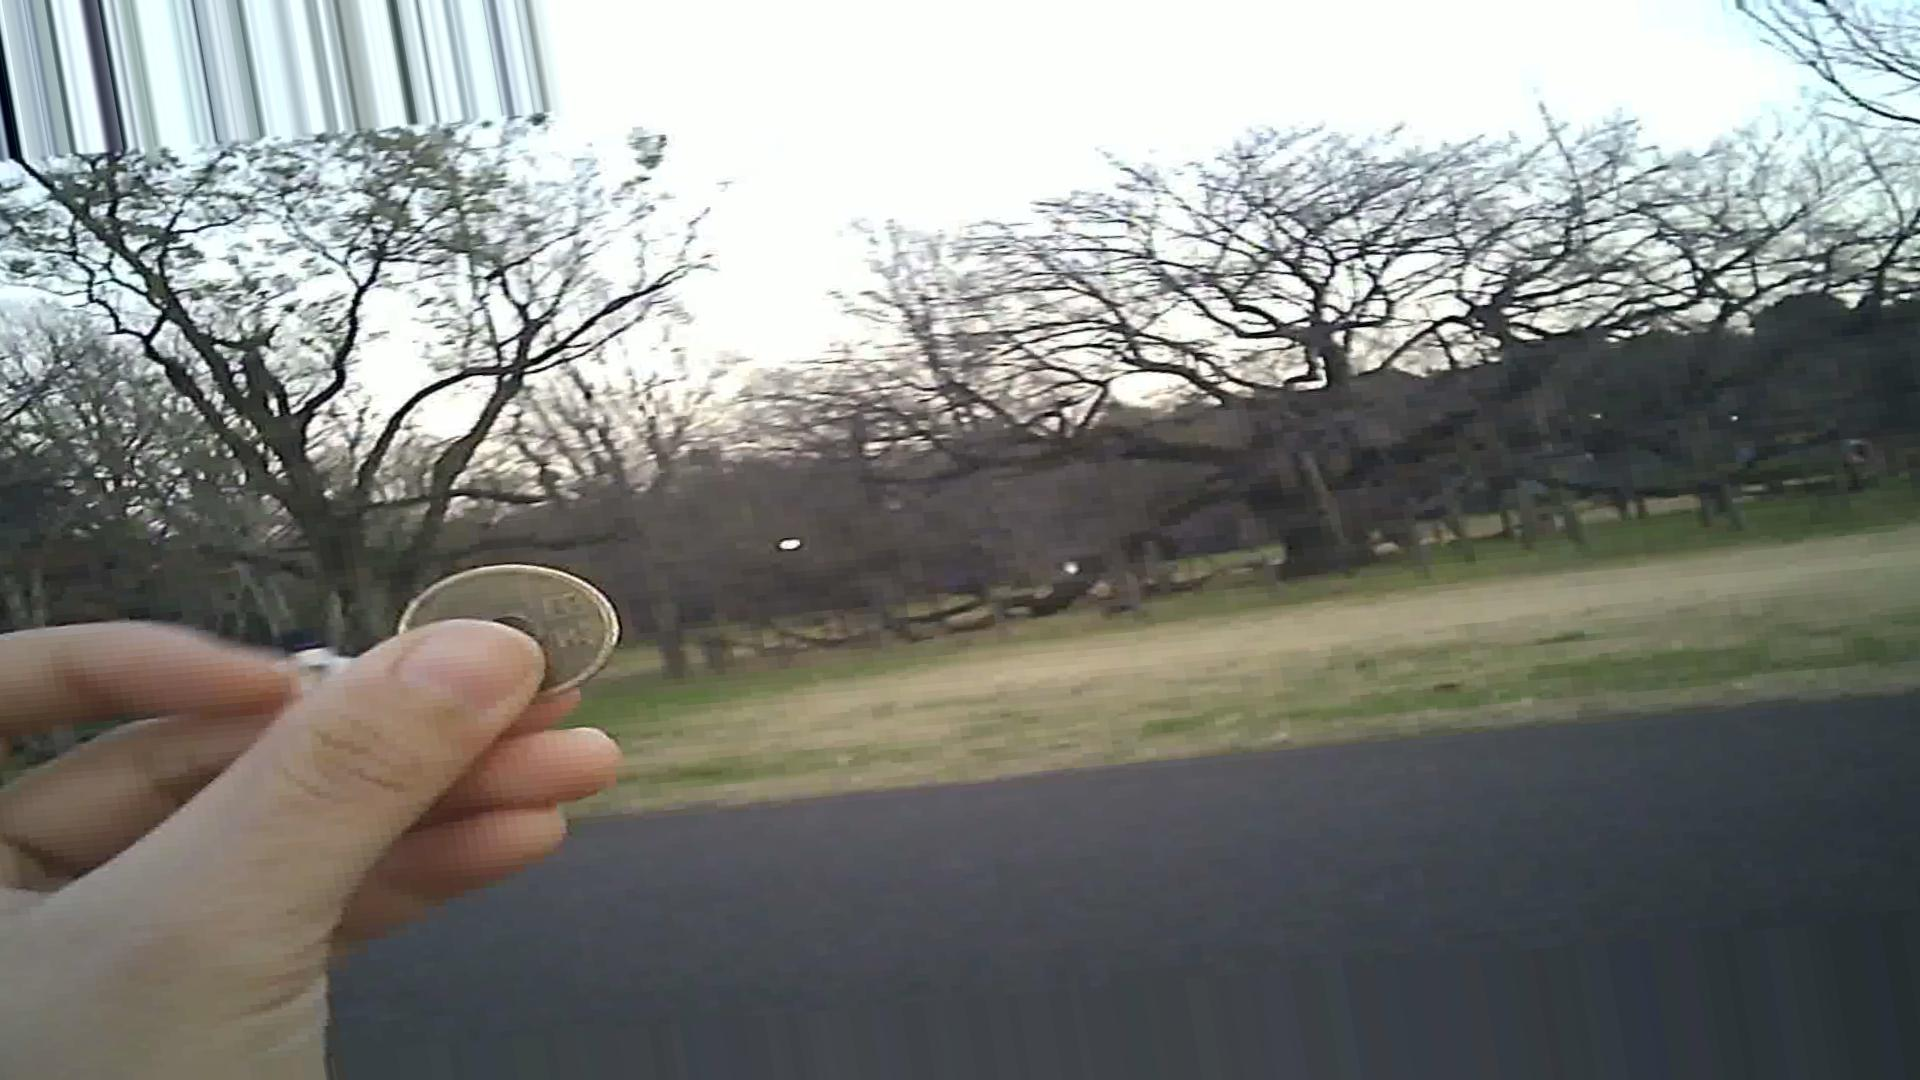5 Yen: (390, 560, 636, 702)
